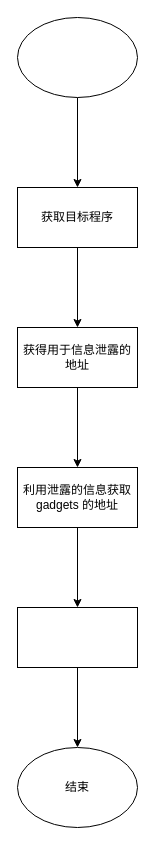
The diagram is 155 pixels wide and 845 high, and some of its shapes have lost their labels. The shapes that lost their labels are listed below. From the top down, each one's box as (x1, y1, x2, y2) in pixels, then its label:
(16, 16, 138, 98): 开始
(16, 606, 138, 668): 进行 ROP 攻击
